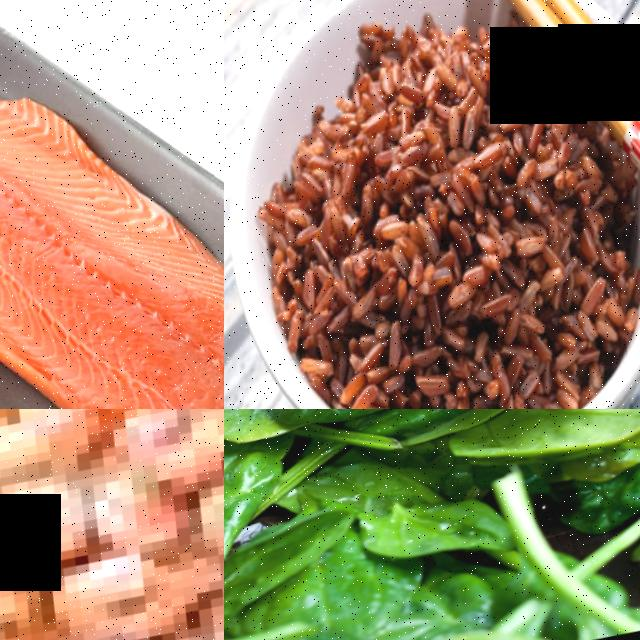red rice: (227, 10, 622, 409)
salmon: (0, 270, 194, 407), (0, 180, 76, 328), (84, 350, 224, 409)
spinach: (224, 444, 293, 562), (224, 409, 299, 465)
